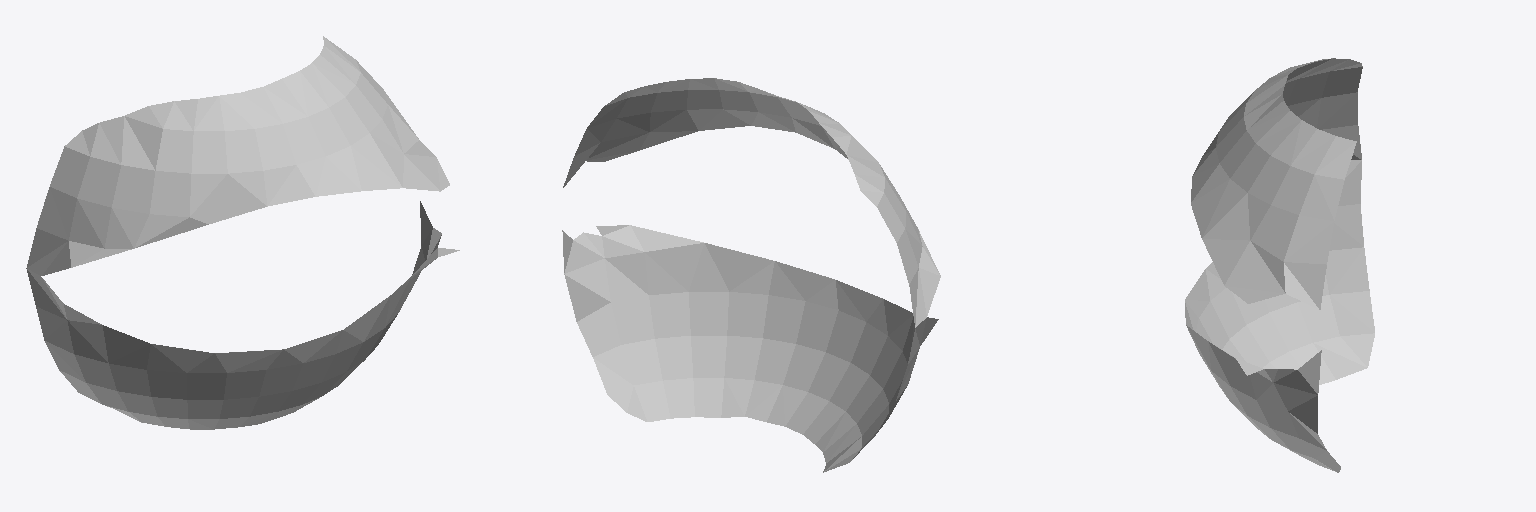
The model's file is innerLidRightUV.obj.
3 views of the same model, side by side, from view 1: azimuth 30°, elevation 25°; view 2: azimuth 150°, elevation 25°; view 3: azimuth 270°, elevation 25° (orthographic).
Parts seen in each view (by area): view 1: wholeFace_NasalCartilage3.001; view 2: wholeFace_NasalCartilage3.001; view 3: wholeFace_NasalCartilage3.001.
Part boxes in pixels (x1,y1,x2,y2): wholeFace_NasalCartilage3.001: (26,36,459,429); wholeFace_NasalCartilage3.001: (562,78,940,472); wholeFace_NasalCartilage3.001: (1185,58,1374,472).
Bounding box in the file's own units: 1.92 × 1.65 × 0.8435.